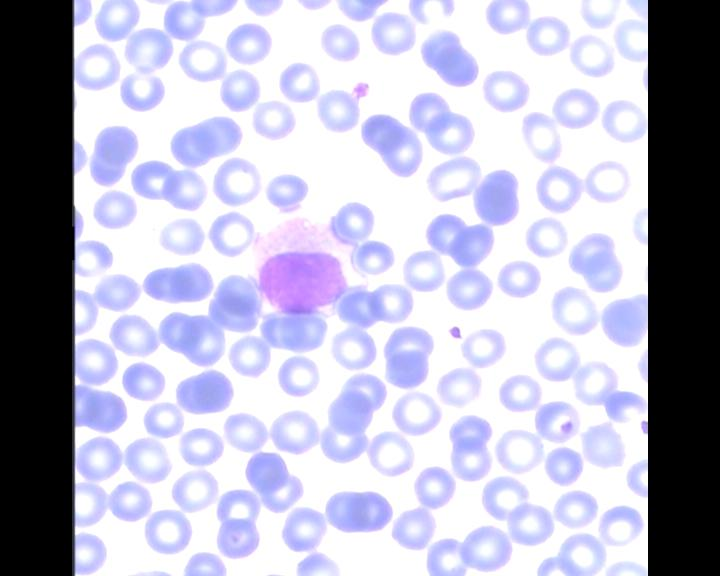mono: (244, 209, 363, 321)
